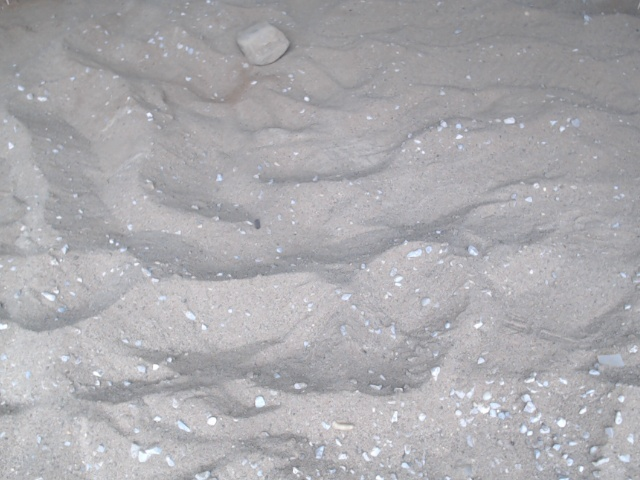rock: (231, 16, 296, 71)
